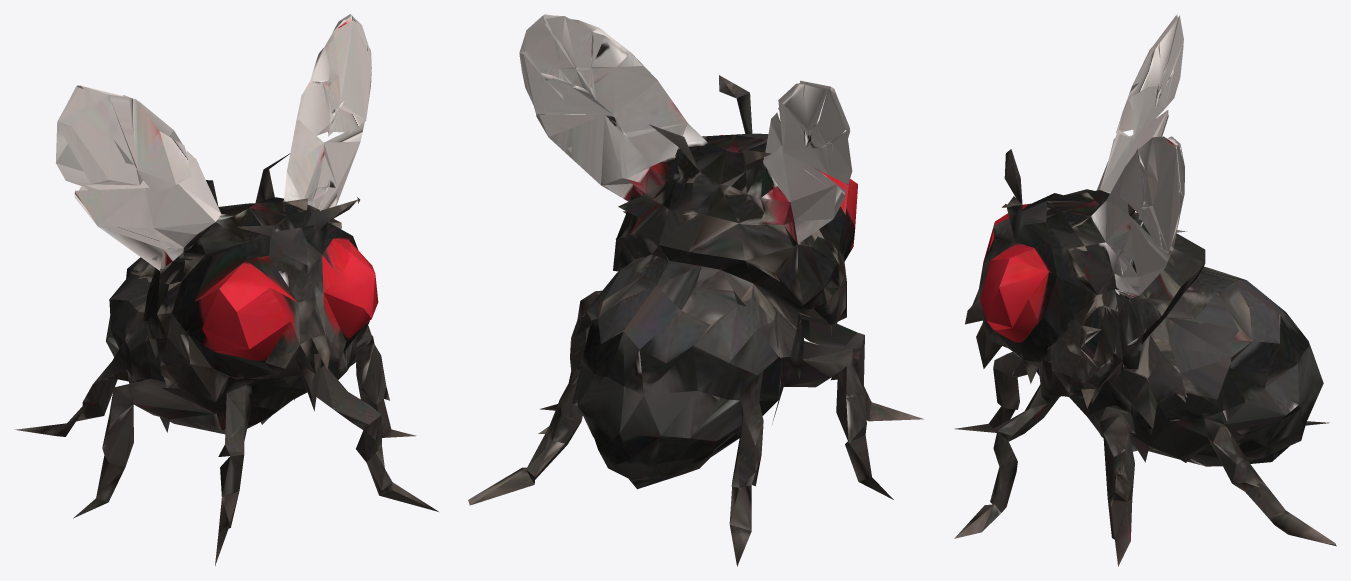
File: bug_fly.glb
3 renders of one model, left to right at view 1: azimuth 30°, elevation 25°; view 2: azimuth 150°, elevation 25°; view 3: azimuth 270°, elevation 25°, orthographic. The views are drawn at different scales.
Visible parts, largest first — view 1: bug; view 2: bug; view 3: bug.
Boxes of the visible parts, bbox=[...] form: bug: bbox=[14, 14, 438, 565]; bug: bbox=[468, 14, 923, 566]; bug: bbox=[954, 14, 1336, 566].
Size of the model in its own units: 1.65 by 1.89 by 1.61.
Materials: 1 (1 with a texture image).
